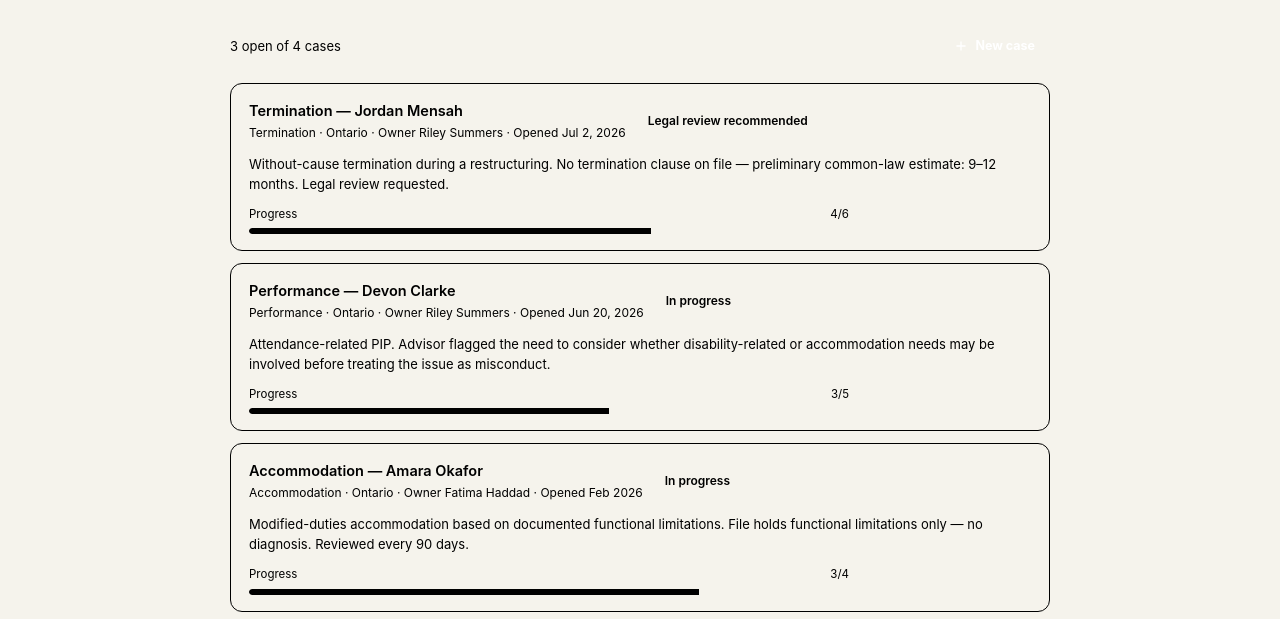
Test: CasesView › navigates to the case detail when a row is opened
Click the button with aria-label "Open case Termination — Jordan Mensah": (640, 167) [230,83,1050,251]
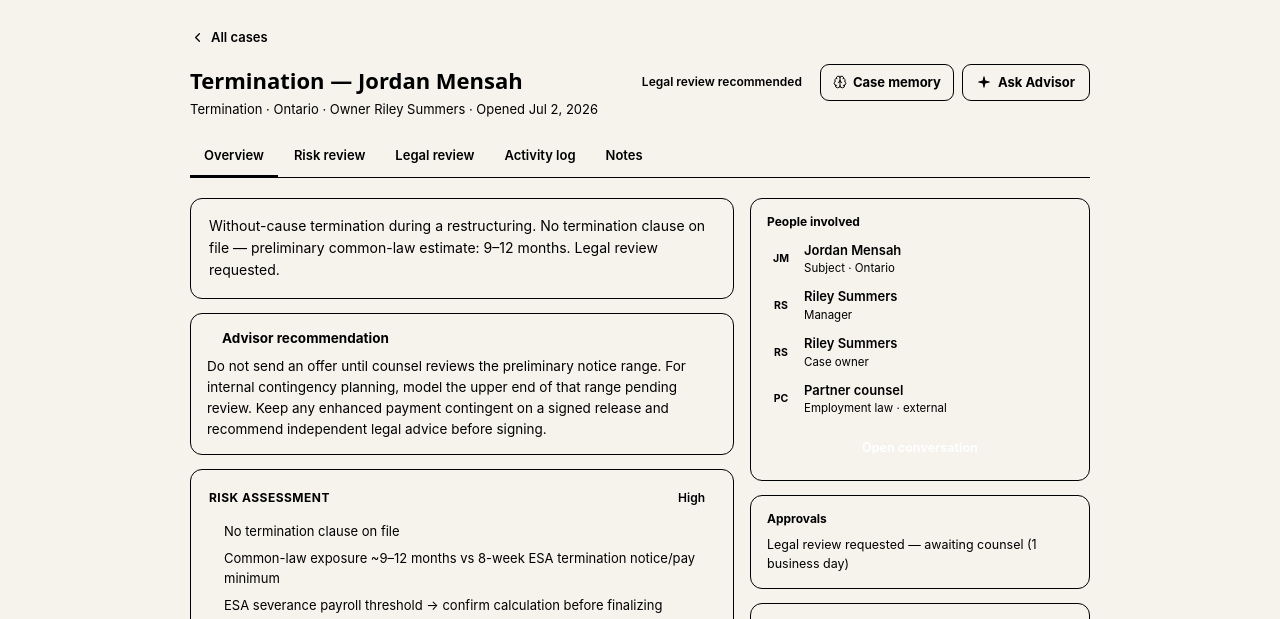
Expected: the text "Without-cause termination during a restructuring" is shown, [209,216,705,278]
Expected: the text "Advisor recommendation" is shown, [222,328,389,348]
Expected: the button "Ask Advisor" is shown, [962,64,1090,101]
